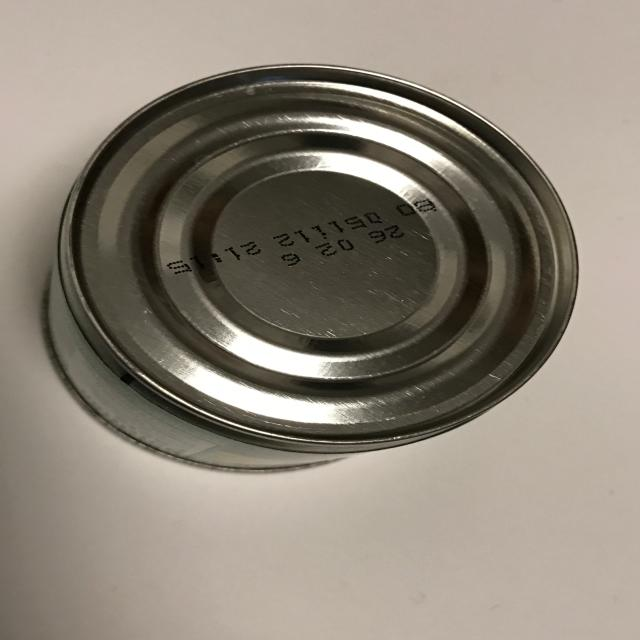metal: (45, 62, 580, 473)
